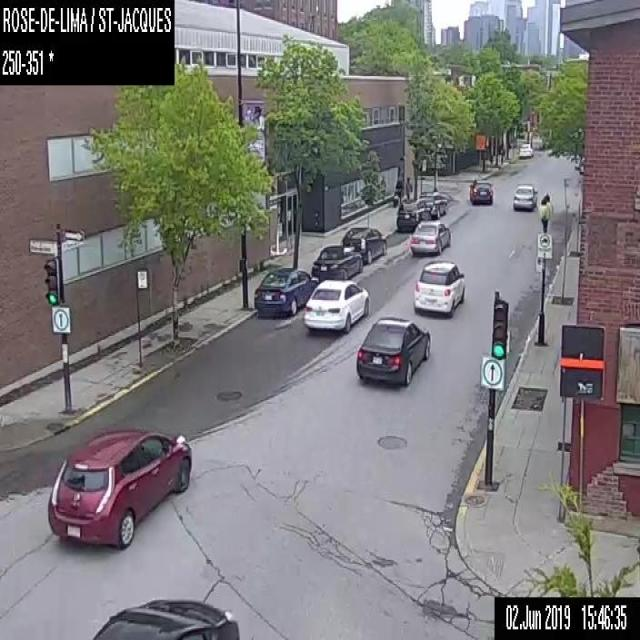construction: (475, 132, 485, 173)
pedestrian: (392, 176, 401, 207), (404, 172, 411, 197)
vehicle: (46, 424, 191, 549), (92, 592, 239, 639), (354, 316, 430, 383), (306, 278, 368, 331), (251, 266, 318, 315), (412, 258, 465, 314), (310, 245, 364, 279), (341, 225, 386, 263), (408, 219, 451, 253), (393, 198, 429, 230), (418, 189, 448, 216), (468, 177, 493, 204), (512, 182, 536, 210), (518, 142, 533, 158)
